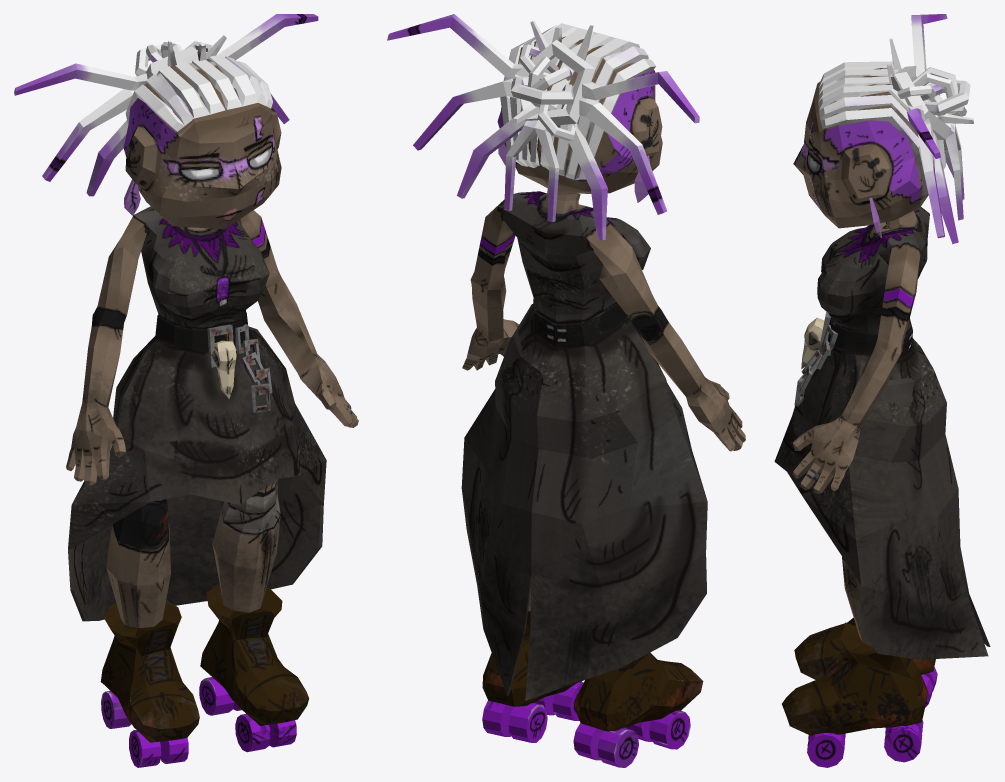
File: bruja_000001.obj
3 renders of one model, left to right at view 1: azimuth 30°, elevation 25°; view 2: azimuth 150°, elevation 25°; view 3: azimuth 270°, elevation 25°, orthographic. The views are drawn at different scales.
Parts seen in each view (by area): view 1: Bruja_Plane.001; view 2: Bruja_Plane.001; view 3: Bruja_Plane.001.
Part boxes in pixels (<box>): Bruja_Plane.001: <box>14,14,358,767</box>; Bruja_Plane.001: <box>387,14,745,767</box>; Bruja_Plane.001: <box>774,14,990,767</box>.
Size of the model in its own units: 7.48 by 16.61 by 4.73.
